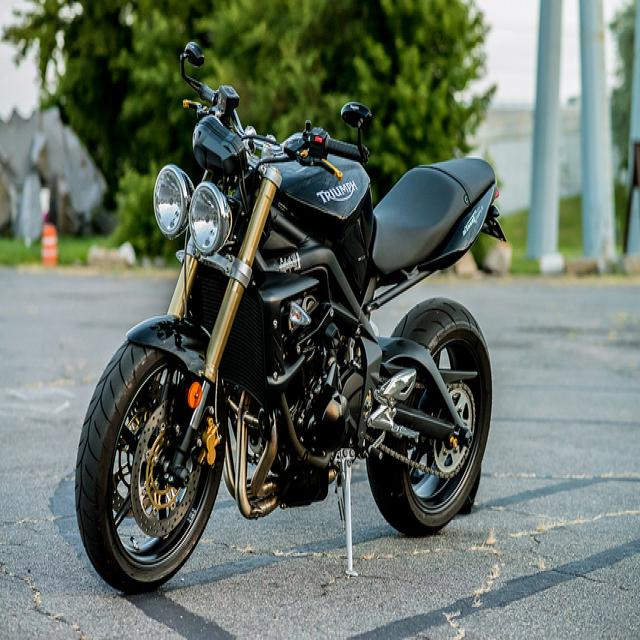motor: (71, 42, 512, 595)
